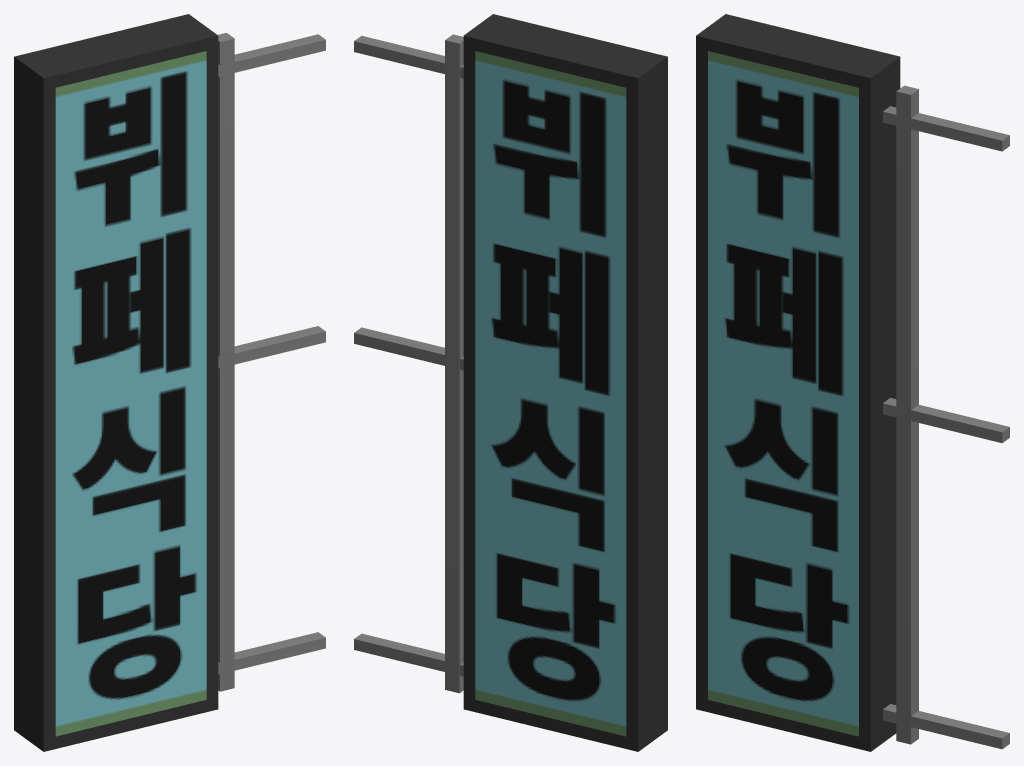
The model's file is B02_Enseigne_D_02.fbx.
The picture shows the model from 3 angles, left to right: view 1: azimuth 30°, elevation 25°; view 2: azimuth 150°, elevation 25°; view 3: azimuth 330°, elevation 25°; orthographic projection.
Visible parts, largest first — view 1: B02_Enseigne_D_02; view 2: B02_Enseigne_D_02; view 3: B02_Enseigne_D_02.
Part boxes in pixels (<box>): B02_Enseigne_D_02: <box>14,14,325,751</box>; B02_Enseigne_D_02: <box>354,14,667,751</box>; B02_Enseigne_D_02: <box>696,14,1009,751</box>.
Size of the model in its own units: 313 by 685 by 54.59.
